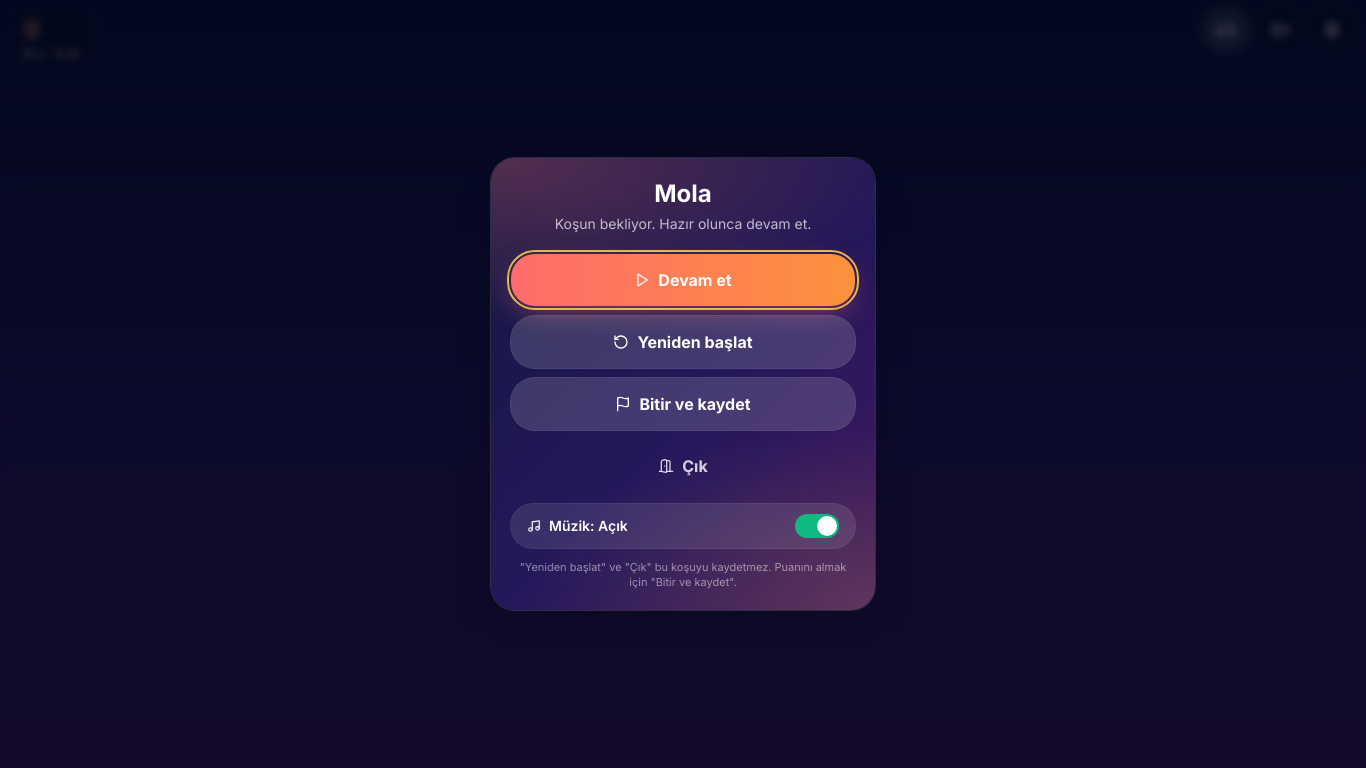
RunnerPlayPage › soru açıkken mola (dereceli) › sekme değiştirme (blur) ile otomatik mola kapıyı etkilemez
Expected: the dialog "Mola" is shown, [491,158,875,610]
Click the button "Devam et" at point(683, 280), box [511,254,855,306]
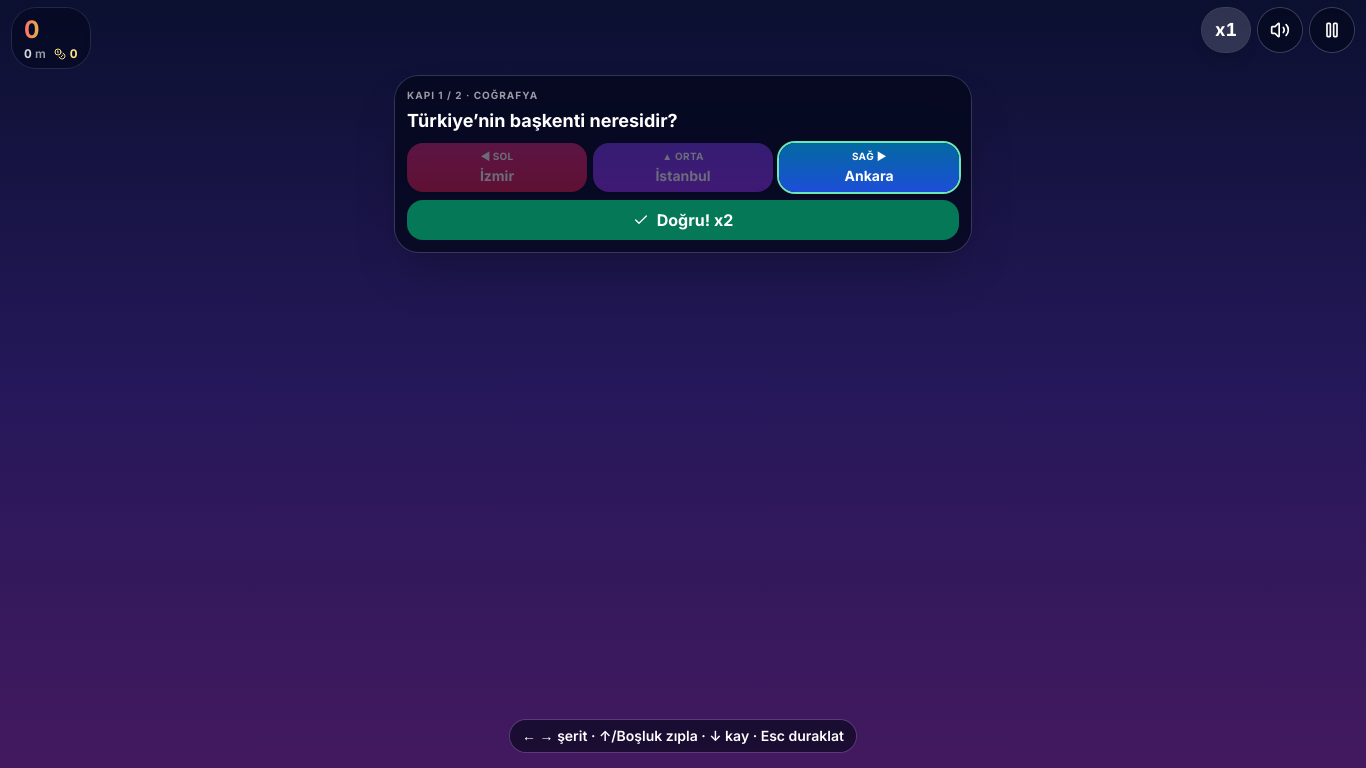
Expected: the text "Doğru! x2" is shown, [407,200,959,240]
